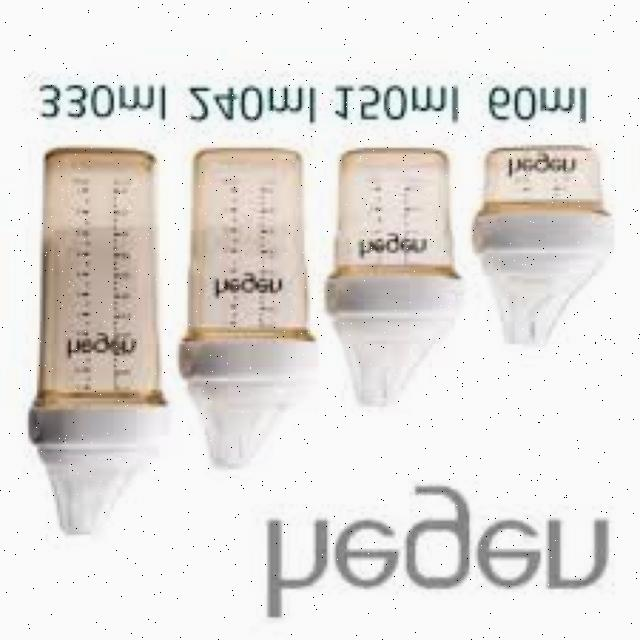bottle: (20, 123, 174, 536)
